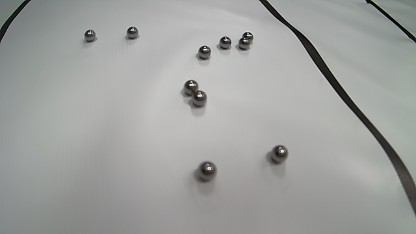ironball: (197, 161, 217, 181), (270, 144, 288, 163), (192, 90, 207, 107), (183, 79, 198, 95), (198, 45, 211, 59), (219, 36, 231, 49), (238, 37, 250, 50), (84, 29, 95, 42), (127, 26, 138, 39), (242, 31, 253, 42)
